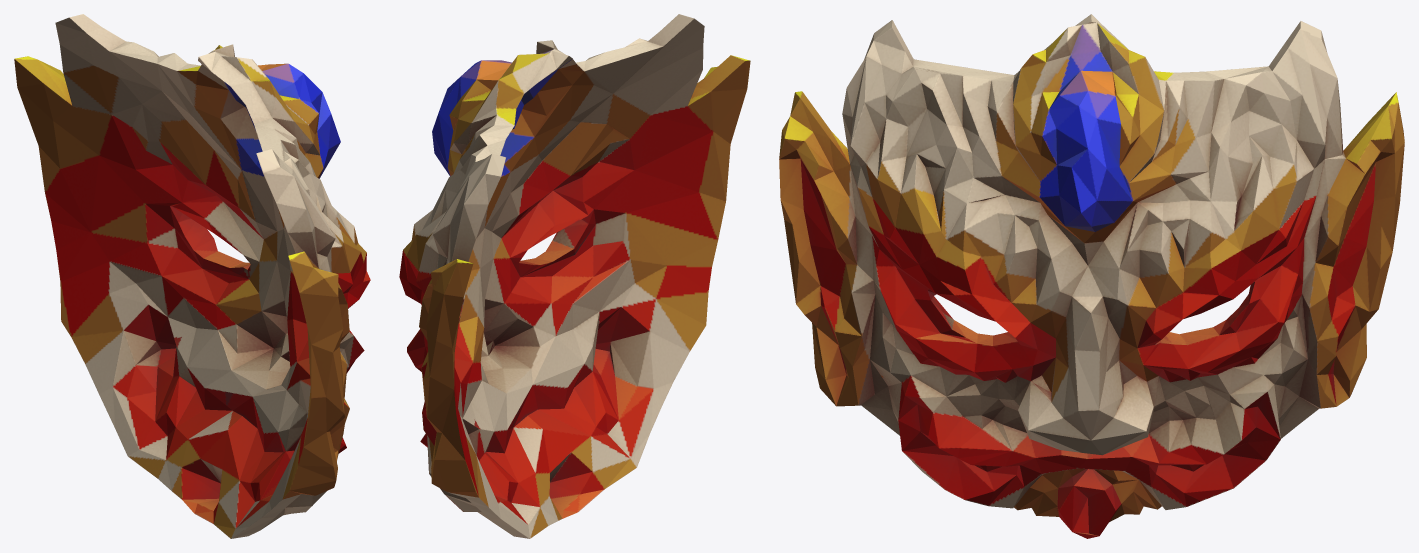
Rendered from mask.glb.
3 views of the same model, side by side, from view 1: azimuth 30°, elevation 25°; view 2: azimuth 150°, elevation 25°; view 3: azimuth 270°, elevation 25° (orthographic). The views are drawn at different scales.
Visible parts, largest first — view 1: Plane; view 2: Plane; view 3: Plane.
Part boxes in pixels (x1,y1,x2,y2): Plane: [14, 14, 370, 538]; Plane: [399, 14, 750, 538]; Plane: [779, 14, 1404, 538].
Size of the model in its own units: 5.11 by 12.52 by 13.91.
1 material, 1 textured.
